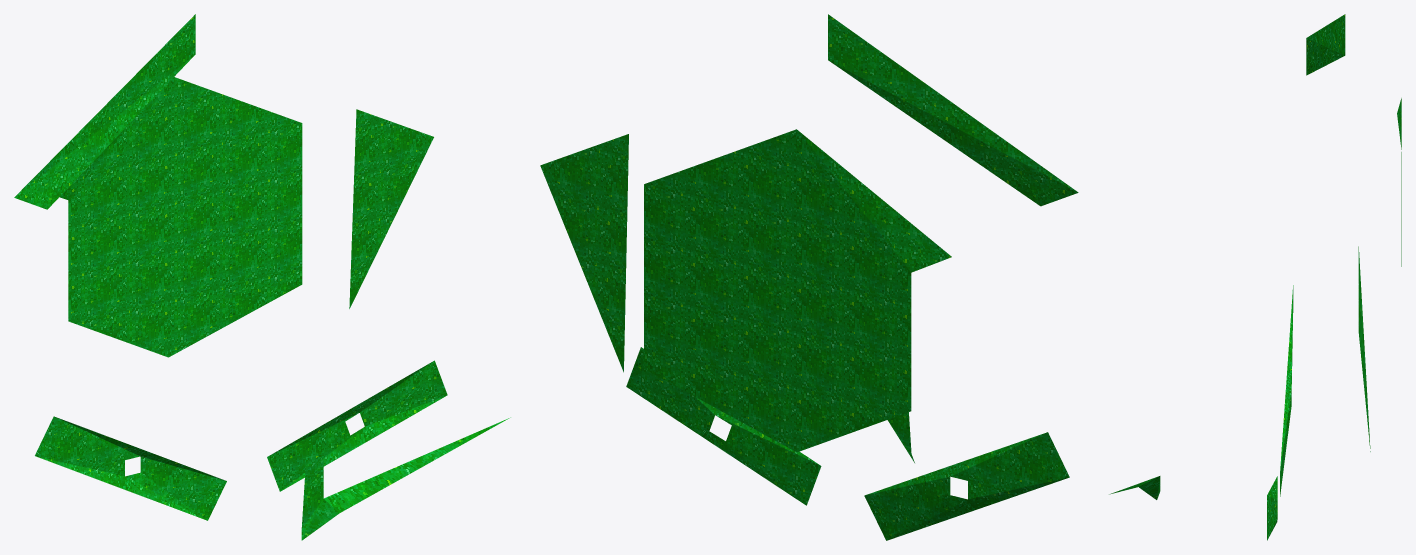
The model's file is Shape_IndexedFaceSet.024.obj.
3 renders of one model, left to right at view 1: azimuth 30°, elevation 25°; view 2: azimuth 150°, elevation 25°; view 3: azimuth 270°, elevation 25°, orthographic. The views are drawn at different scales.
Parts seen in each view (by area): view 1: Shape_IndexedFaceSet.024; view 2: Shape_IndexedFaceSet.024; view 3: Shape_IndexedFaceSet.024.
Part boxes in pixels (<box>): Shape_IndexedFaceSet.024: <box>14,14,510,540</box>; Shape_IndexedFaceSet.024: <box>540,14,1078,540</box>; Shape_IndexedFaceSet.024: <box>1109,14,1401,540</box>.
Bounding box in the file's own units: 5.91 × 6.08 × 3.28.
1 material, 1 textured.
